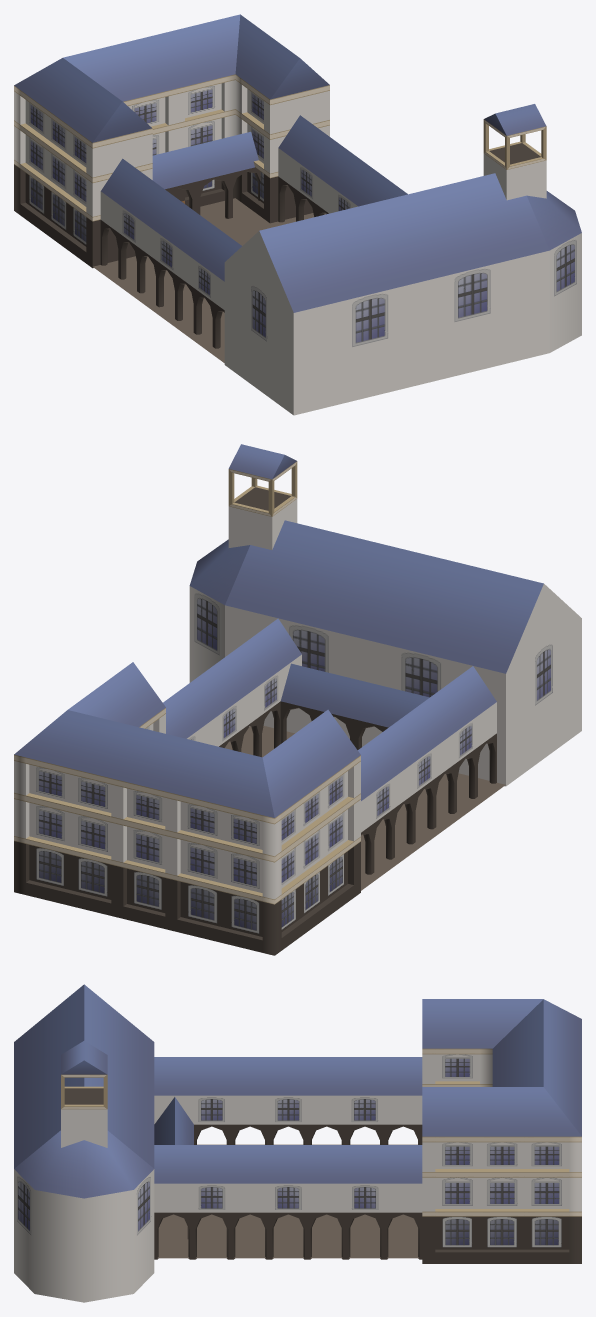
File: Couvent_Cordellier.fbx
3 views of the same model, one above another, from view 1: azimuth 30°, elevation 25°; view 2: azimuth 150°, elevation 25°; view 3: azimuth 270°, elevation 25° (orthographic). The views are drawn at different scales.
Visible parts, largest first — view 1: Bat_Couvant; view 2: Bat_Couvant; view 3: Bat_Couvant.
Boxes of the visible parts, bbox=[...] form: Bat_Couvant: bbox=[14, 14, 581, 415]; Bat_Couvant: bbox=[14, 444, 581, 955]; Bat_Couvant: bbox=[14, 984, 581, 1302].
Size of the model in its own units: 58 by 38.47 by 89.
